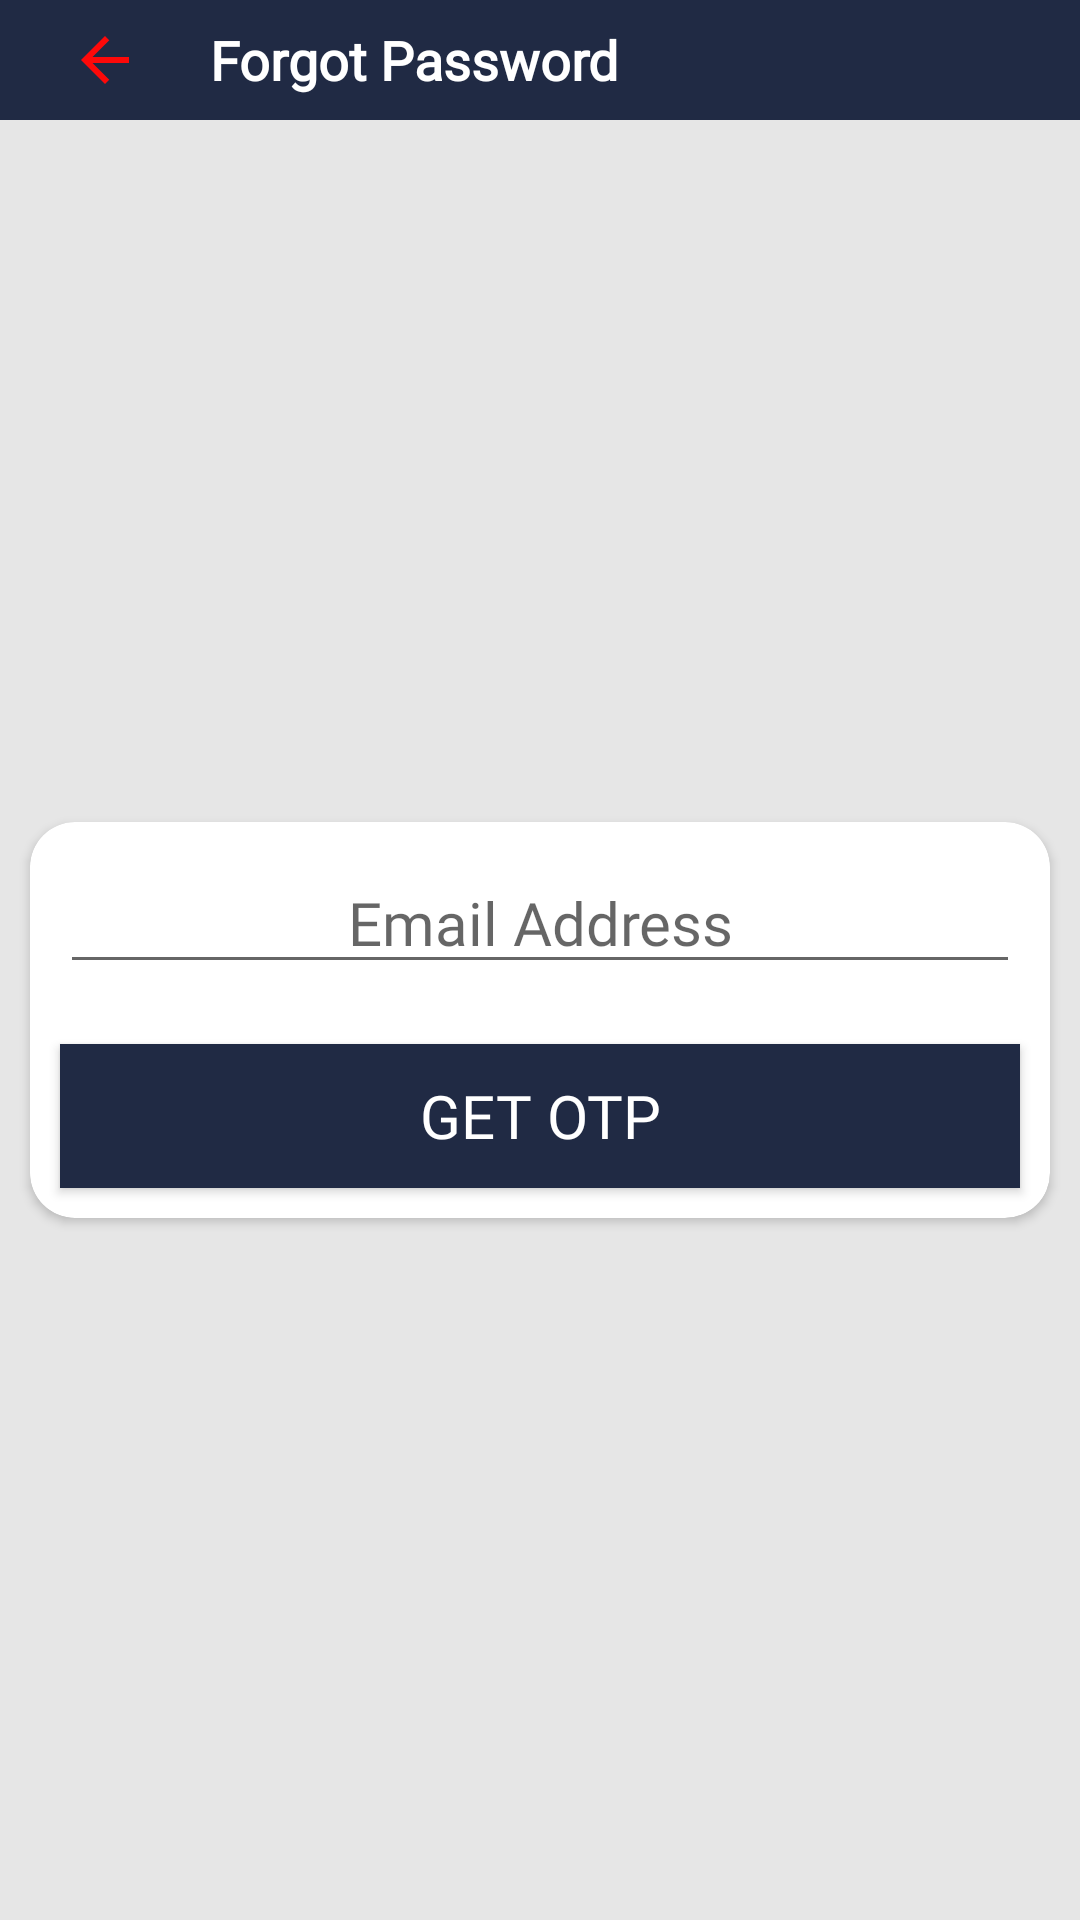

Icons on this 1080x1920 Android screen, each with its box as (x1, y1, x2, y2):
arrow back: (81, 36, 129, 84)
